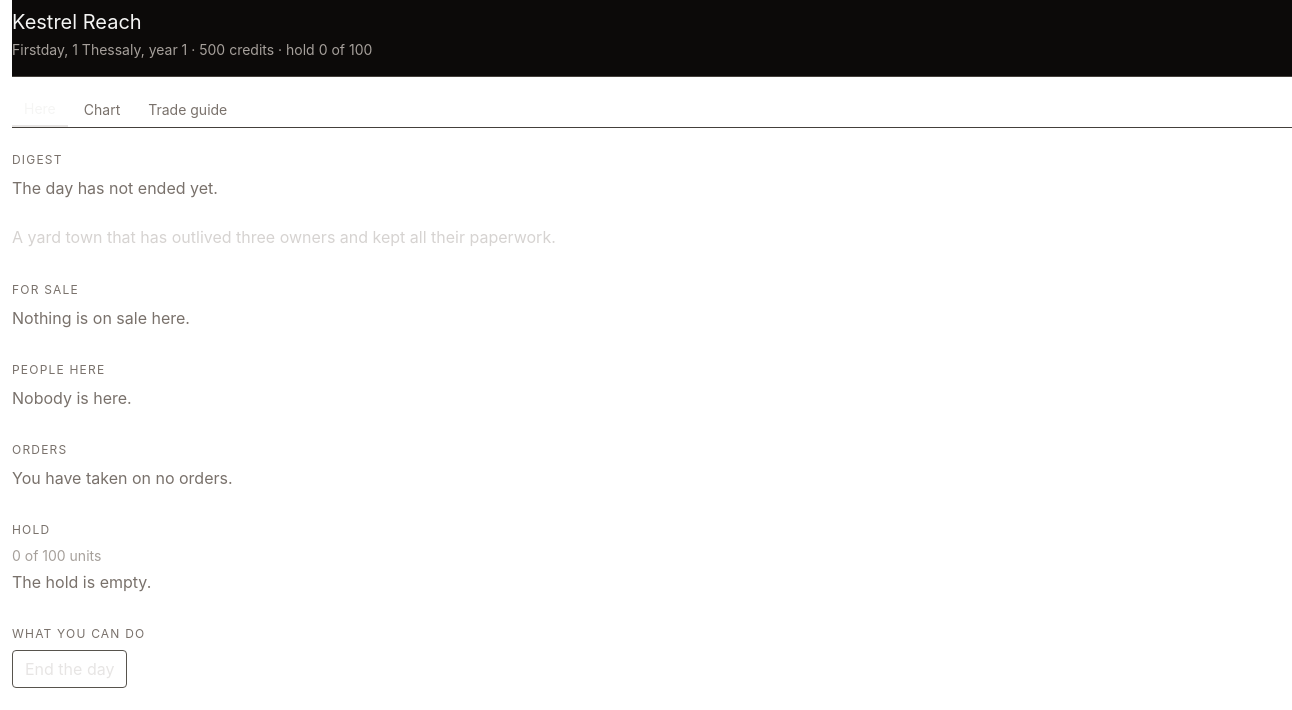
it: the chart on the page › says a lane is beyond range wherever it sits on the chart, not only from here
Click the tab "Chart".
click(102, 110)  # box left=72, top=93, right=132, bottom=127
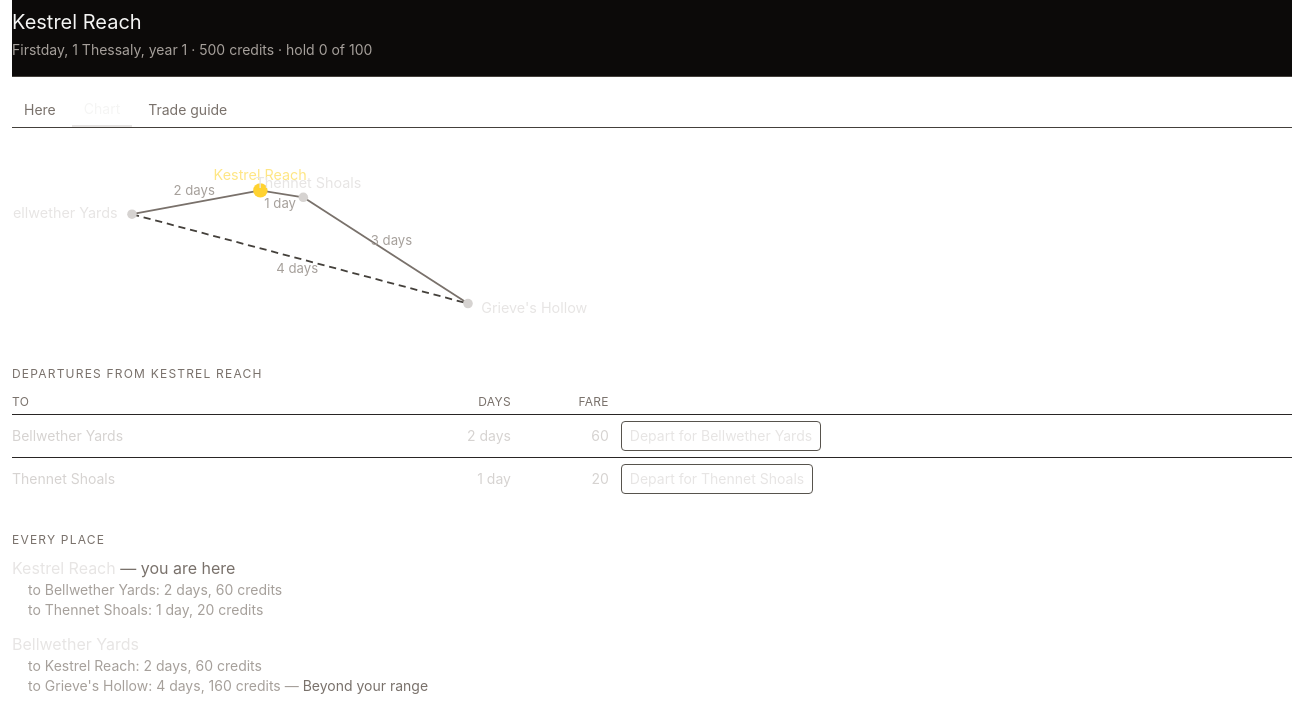
expect the list item "to Grieve's Hollow: 4 days, 160 credits — Beyond your range" is shown: met, box left=28, top=677, right=428, bottom=694
